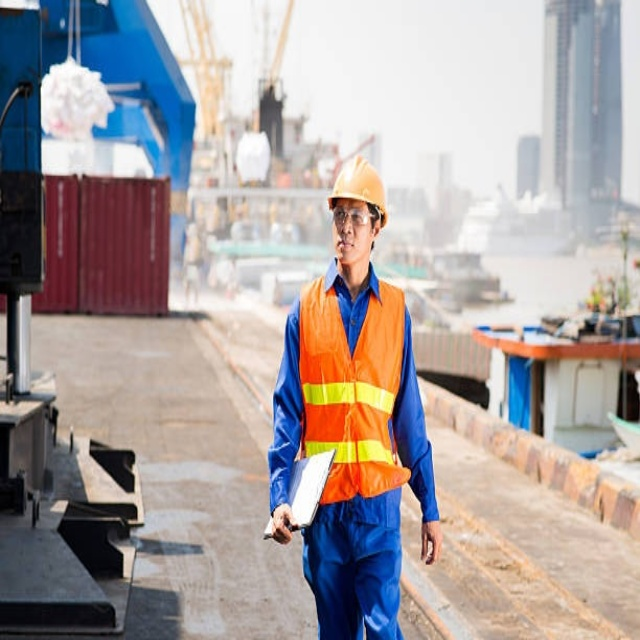Gafas: (332, 209, 377, 229)
Sin_guantes: (417, 518, 444, 568), (269, 505, 295, 544)
Sin_mascara: (334, 234, 359, 262)
